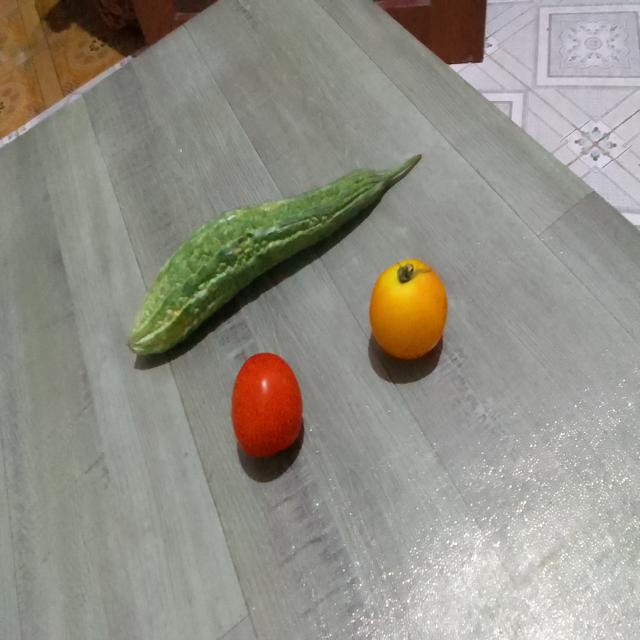ampalaya: (119, 136, 421, 362)
tomato: (228, 347, 308, 470), (368, 252, 449, 364)
